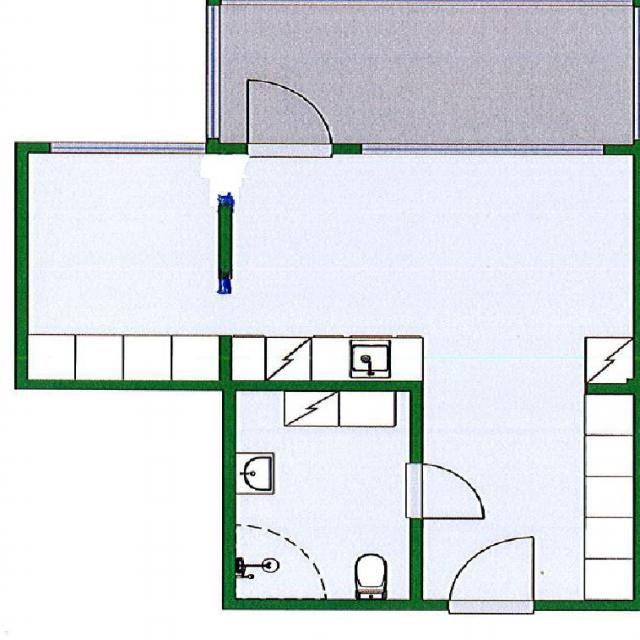door: (450, 530, 534, 609), (249, 74, 332, 153), (410, 464, 489, 517)
